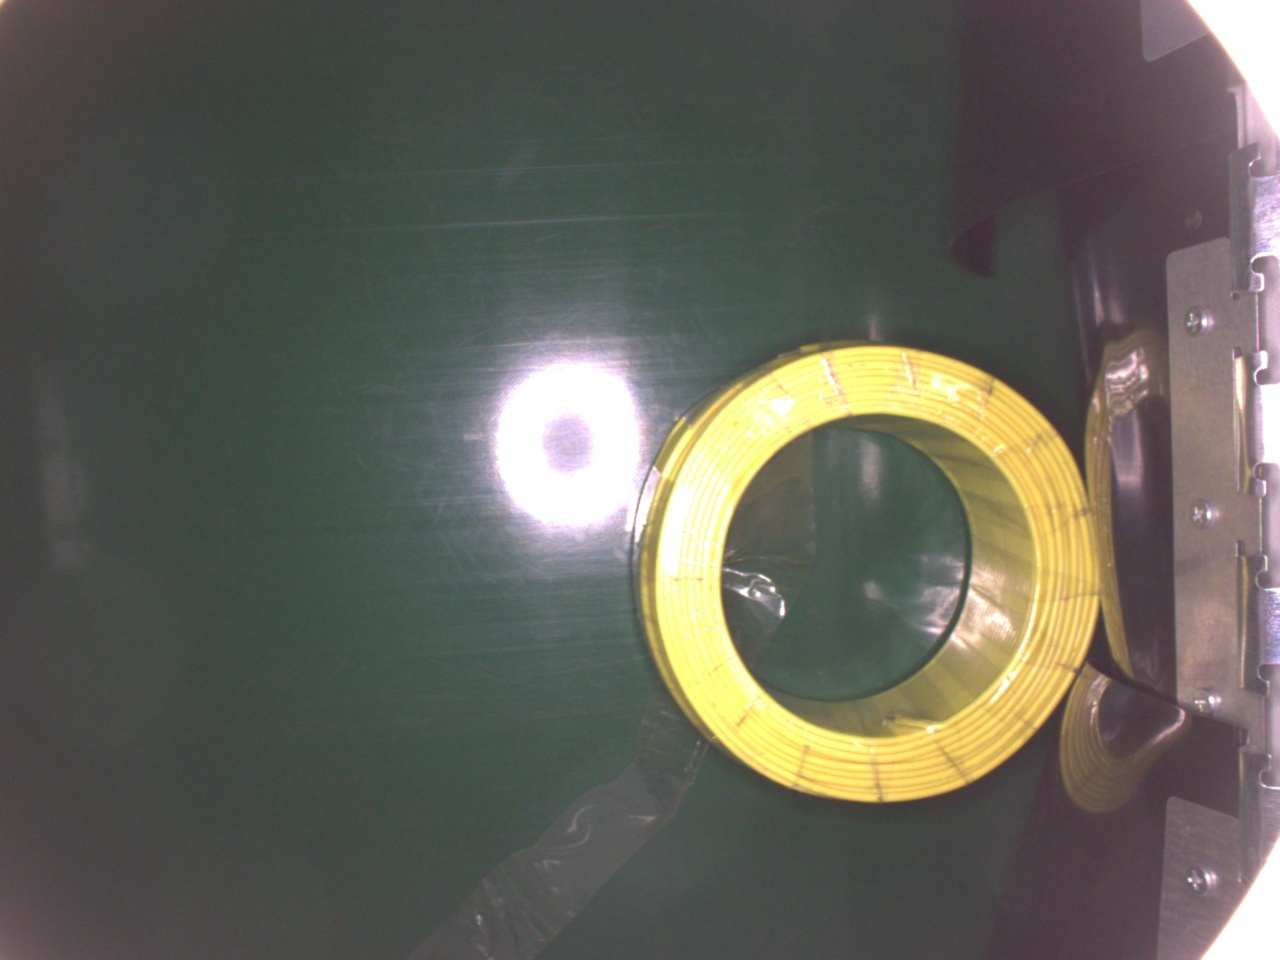yellow: (633, 339, 1099, 804)
